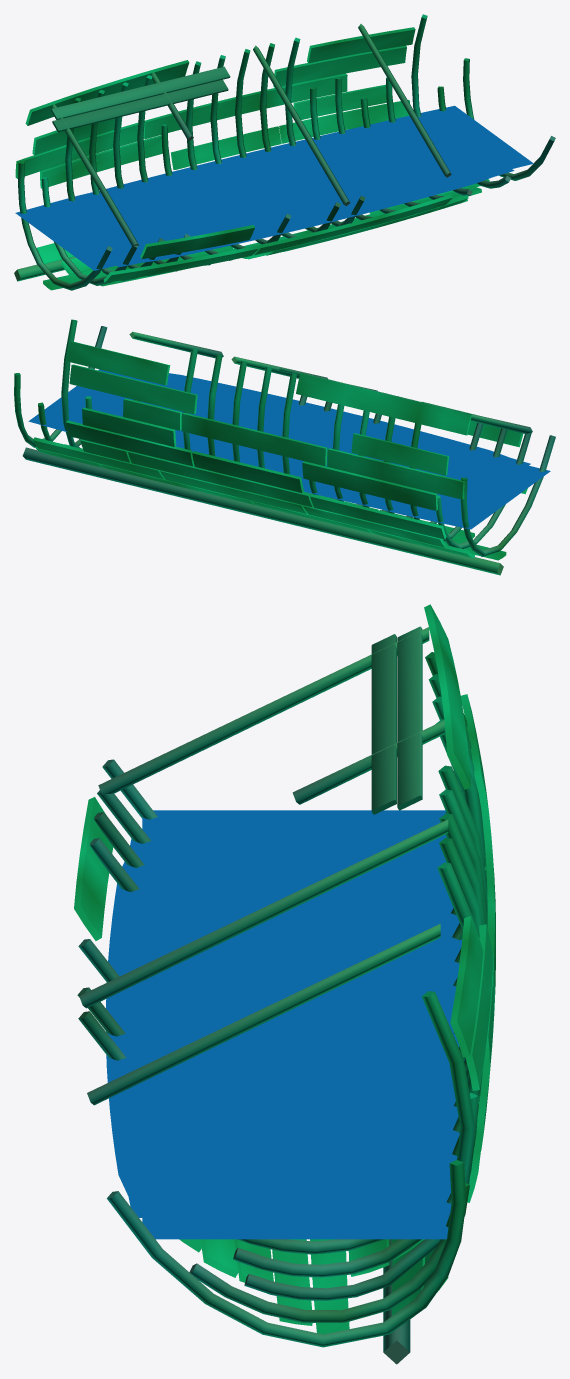
The model's file is wreck_hull_section.glb.
3 views of the same model, one above another, from view 1: azimuth 30°, elevation 25°; view 2: azimuth 150°, elevation 25°; view 3: azimuth 270°, elevation 25° (orthographic). The views are drawn at different scales.
Parts seen in each view (by area): view 1: wreck_hull_section; view 2: wreck_hull_section; view 3: wreck_hull_section.
Boxes of the visible parts, left/top/right/bottom form: wreck_hull_section: left=14, top=14, right=555, bottom=290; wreck_hull_section: left=14, top=319, right=555, bottom=575; wreck_hull_section: left=74, top=604, right=495, bottom=1364.
Size of what is drawn, in the model's own units: 10.5 by 3.55 by 4.07.
